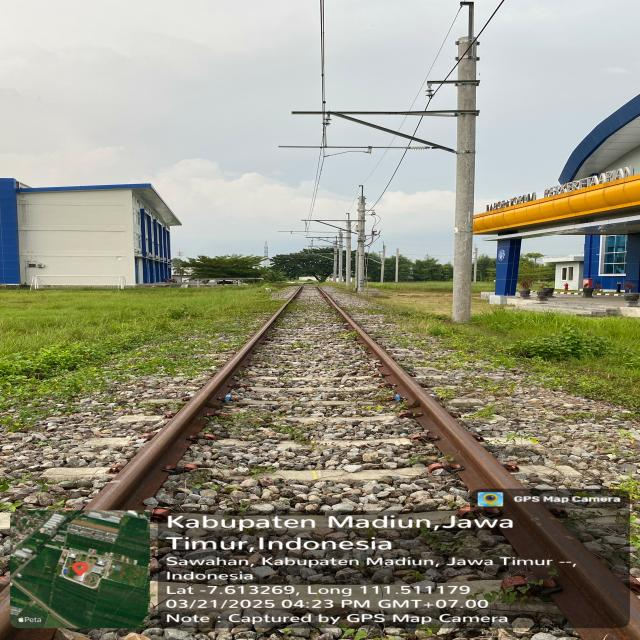rail-detection: (315, 285, 640, 640), (90, 285, 306, 509)
